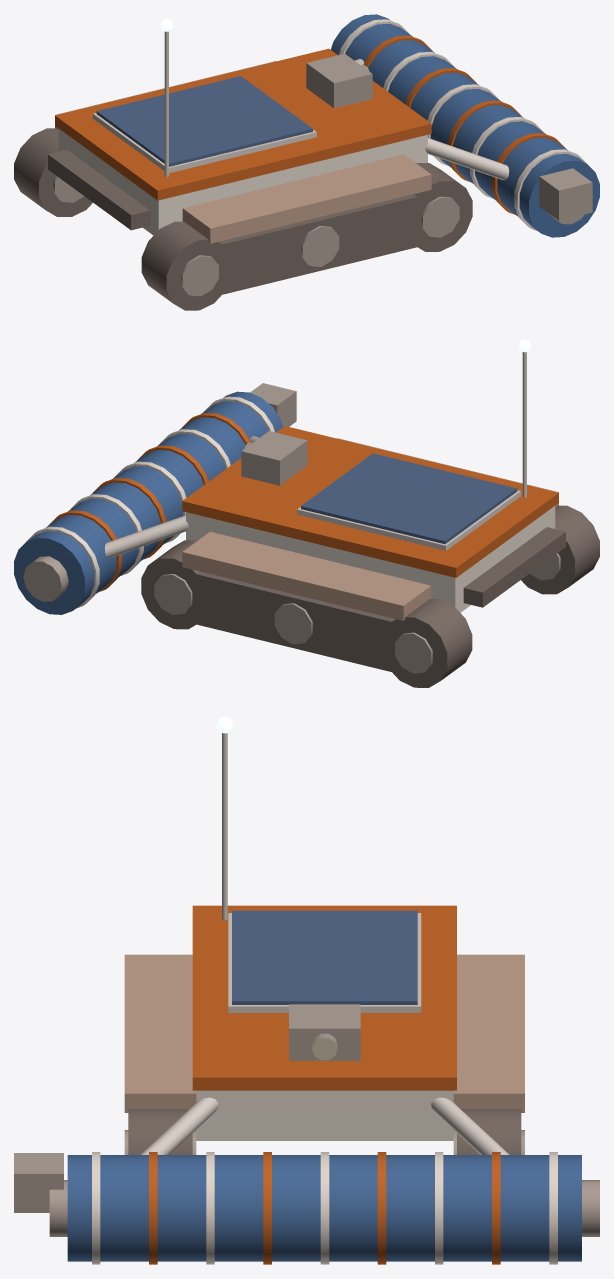
Rendered from V15_solar_cleaning_robot.glb.
The picture shows the model from 3 angles, top to bottom: view 1: azimuth 30°, elevation 25°; view 2: azimuth 150°, elevation 25°; view 3: azimuth 270°, elevation 25°; orthographic projection. The views are drawn at different scales.
Visible parts, largest first — view 1: track_belt, track_guard, chassis_stripe, track_wheel, object 5; view 2: track_belt, track_guard, chassis_stripe, track_wheel, object 5; view 3: track_belt, track_guard, chassis_stripe, track_wheel, object 5.
Boxes of the visible parts, x1,y1,x2,y2 form: track_belt: (14, 14, 599, 310); track_guard: (55, 61, 431, 243); chassis_stripe: (55, 35, 565, 214); track_wheel: (53, 53, 592, 296); object 5: (93, 31, 509, 180); track_belt: (14, 391, 599, 687); track_guard: (182, 438, 558, 620); chassis_stripe: (48, 413, 558, 591); track_wheel: (23, 383, 560, 673); object 5: (104, 352, 526, 557); track_belt: (67, 1090, 581, 1264); track_guard: (124, 910, 524, 1112); chassis_stripe: (149, 905, 500, 1264); track_wheel: (14, 1004, 599, 1236); object 5: (140, 733, 509, 1154).
Size of the model in its own units: 0.8578 by 0.522 by 0.82.
